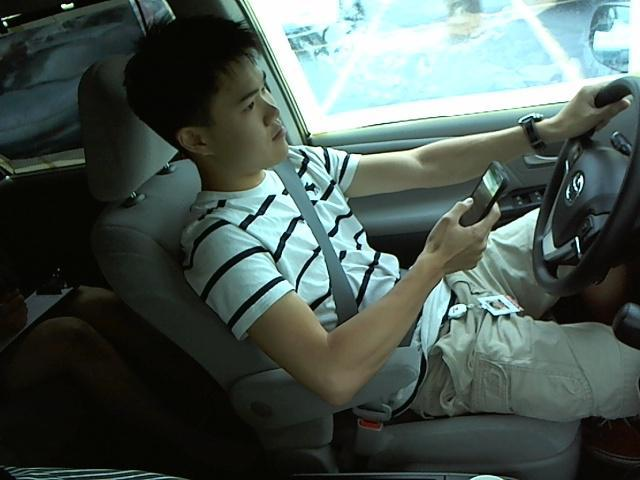PhoneUse: (448, 157, 514, 240)
